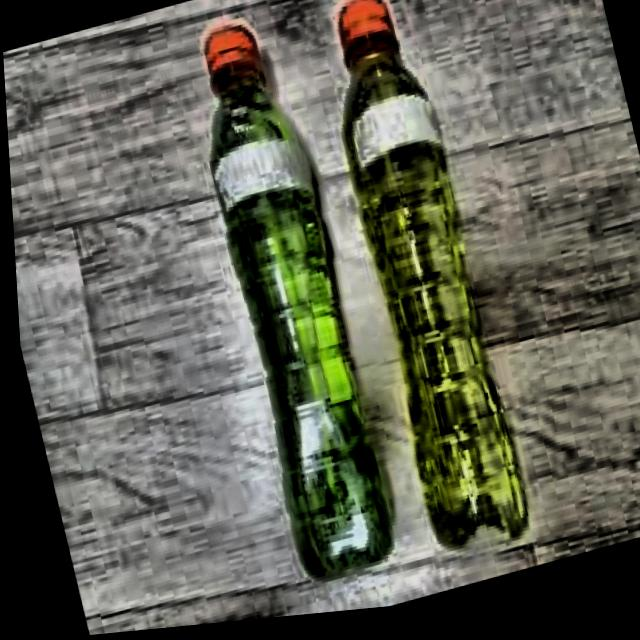Bottles: (286, 0, 550, 595), (168, 0, 408, 613)
